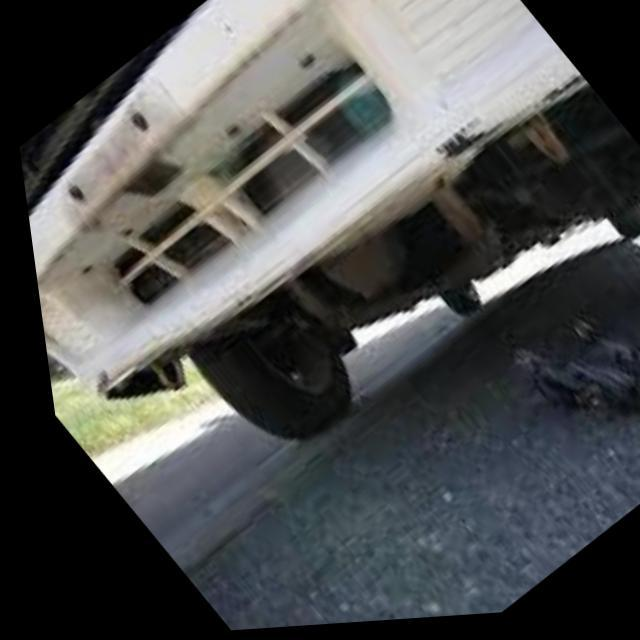scratch: (53, 71, 196, 233), (426, 71, 589, 172)
